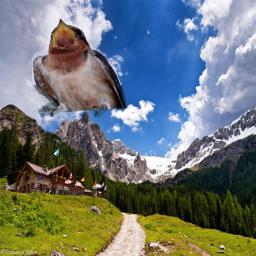Swallow: (32, 18, 126, 117)
